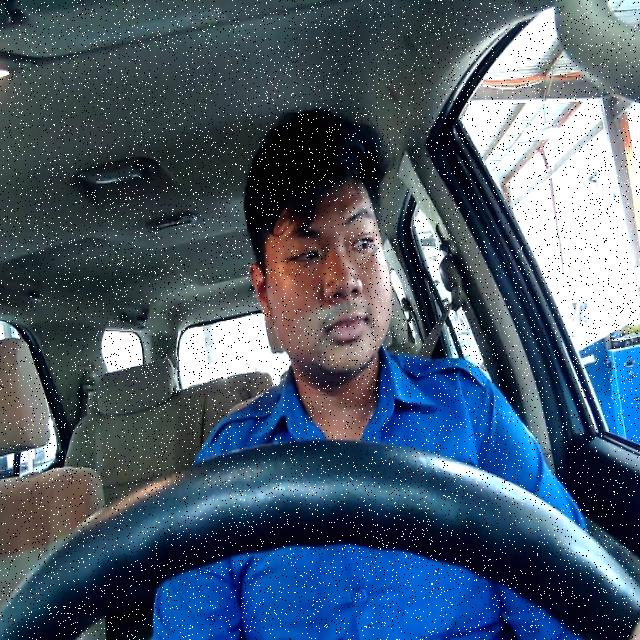focused: (248, 179, 392, 376)
